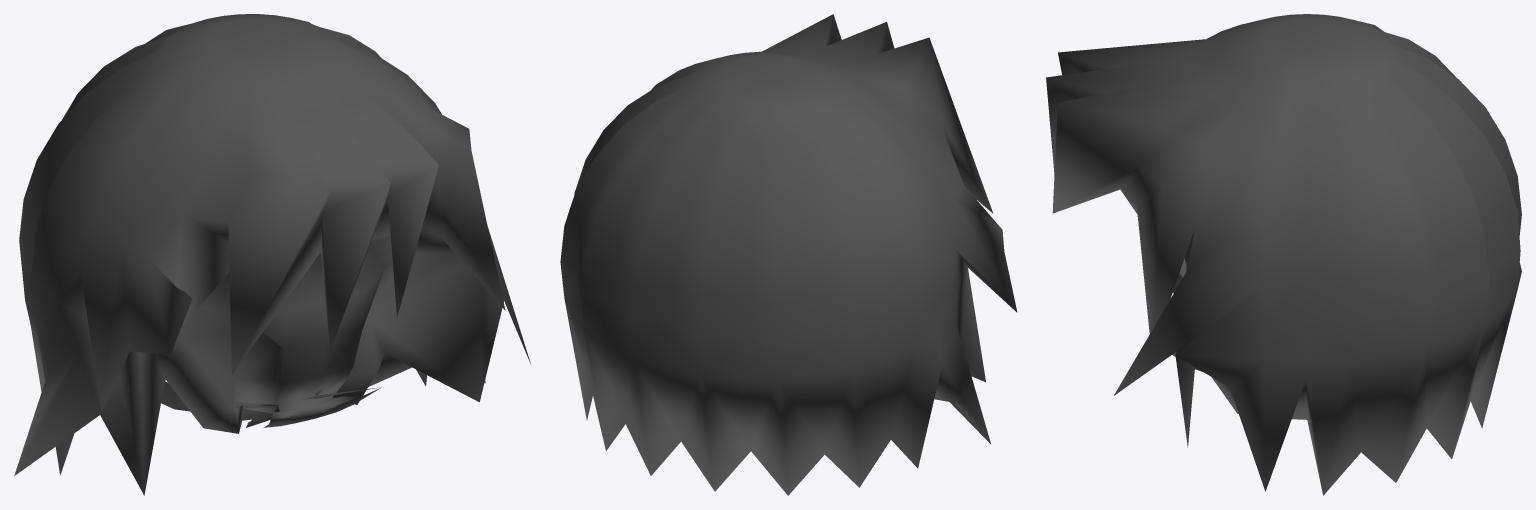
Rendered from male_hair1_color1.gltf.
3 views of the same model, side by side, from view 1: azimuth 30°, elevation 25°; view 2: azimuth 150°, elevation 25°; view 3: azimuth 270°, elevation 25° (orthographic). The views are drawn at different scales.
Parts seen in each view (by area): view 1: male_hair1; view 2: male_hair1; view 3: male_hair1.
Boxes of the visible parts, x1=… form: male_hair1: x1=14, y1=14, x2=530, y2=495; male_hair1: x1=560, y1=14, x2=1017, y2=495; male_hair1: x1=1046, y1=14, x2=1521, y2=495.
Bounding box in the file's own units: 0.2627 × 0.2174 × 0.2507.
Materials: 1 (1 with a texture image).
